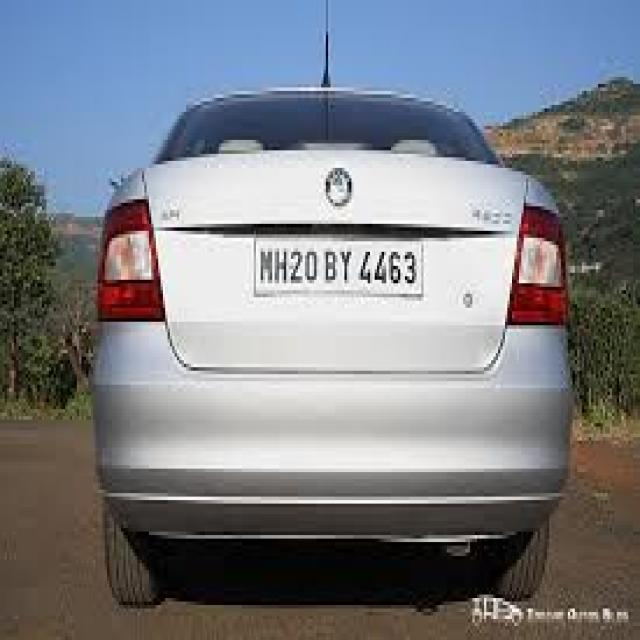Number-Plate: (256, 238, 420, 292)
